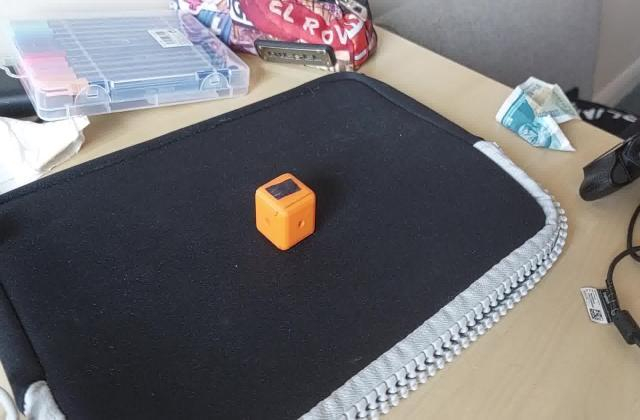black: (264, 180, 302, 202)
cube: (252, 172, 318, 253)
